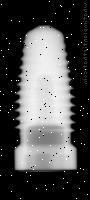Nobel Biocare: (13, 24, 78, 171)
